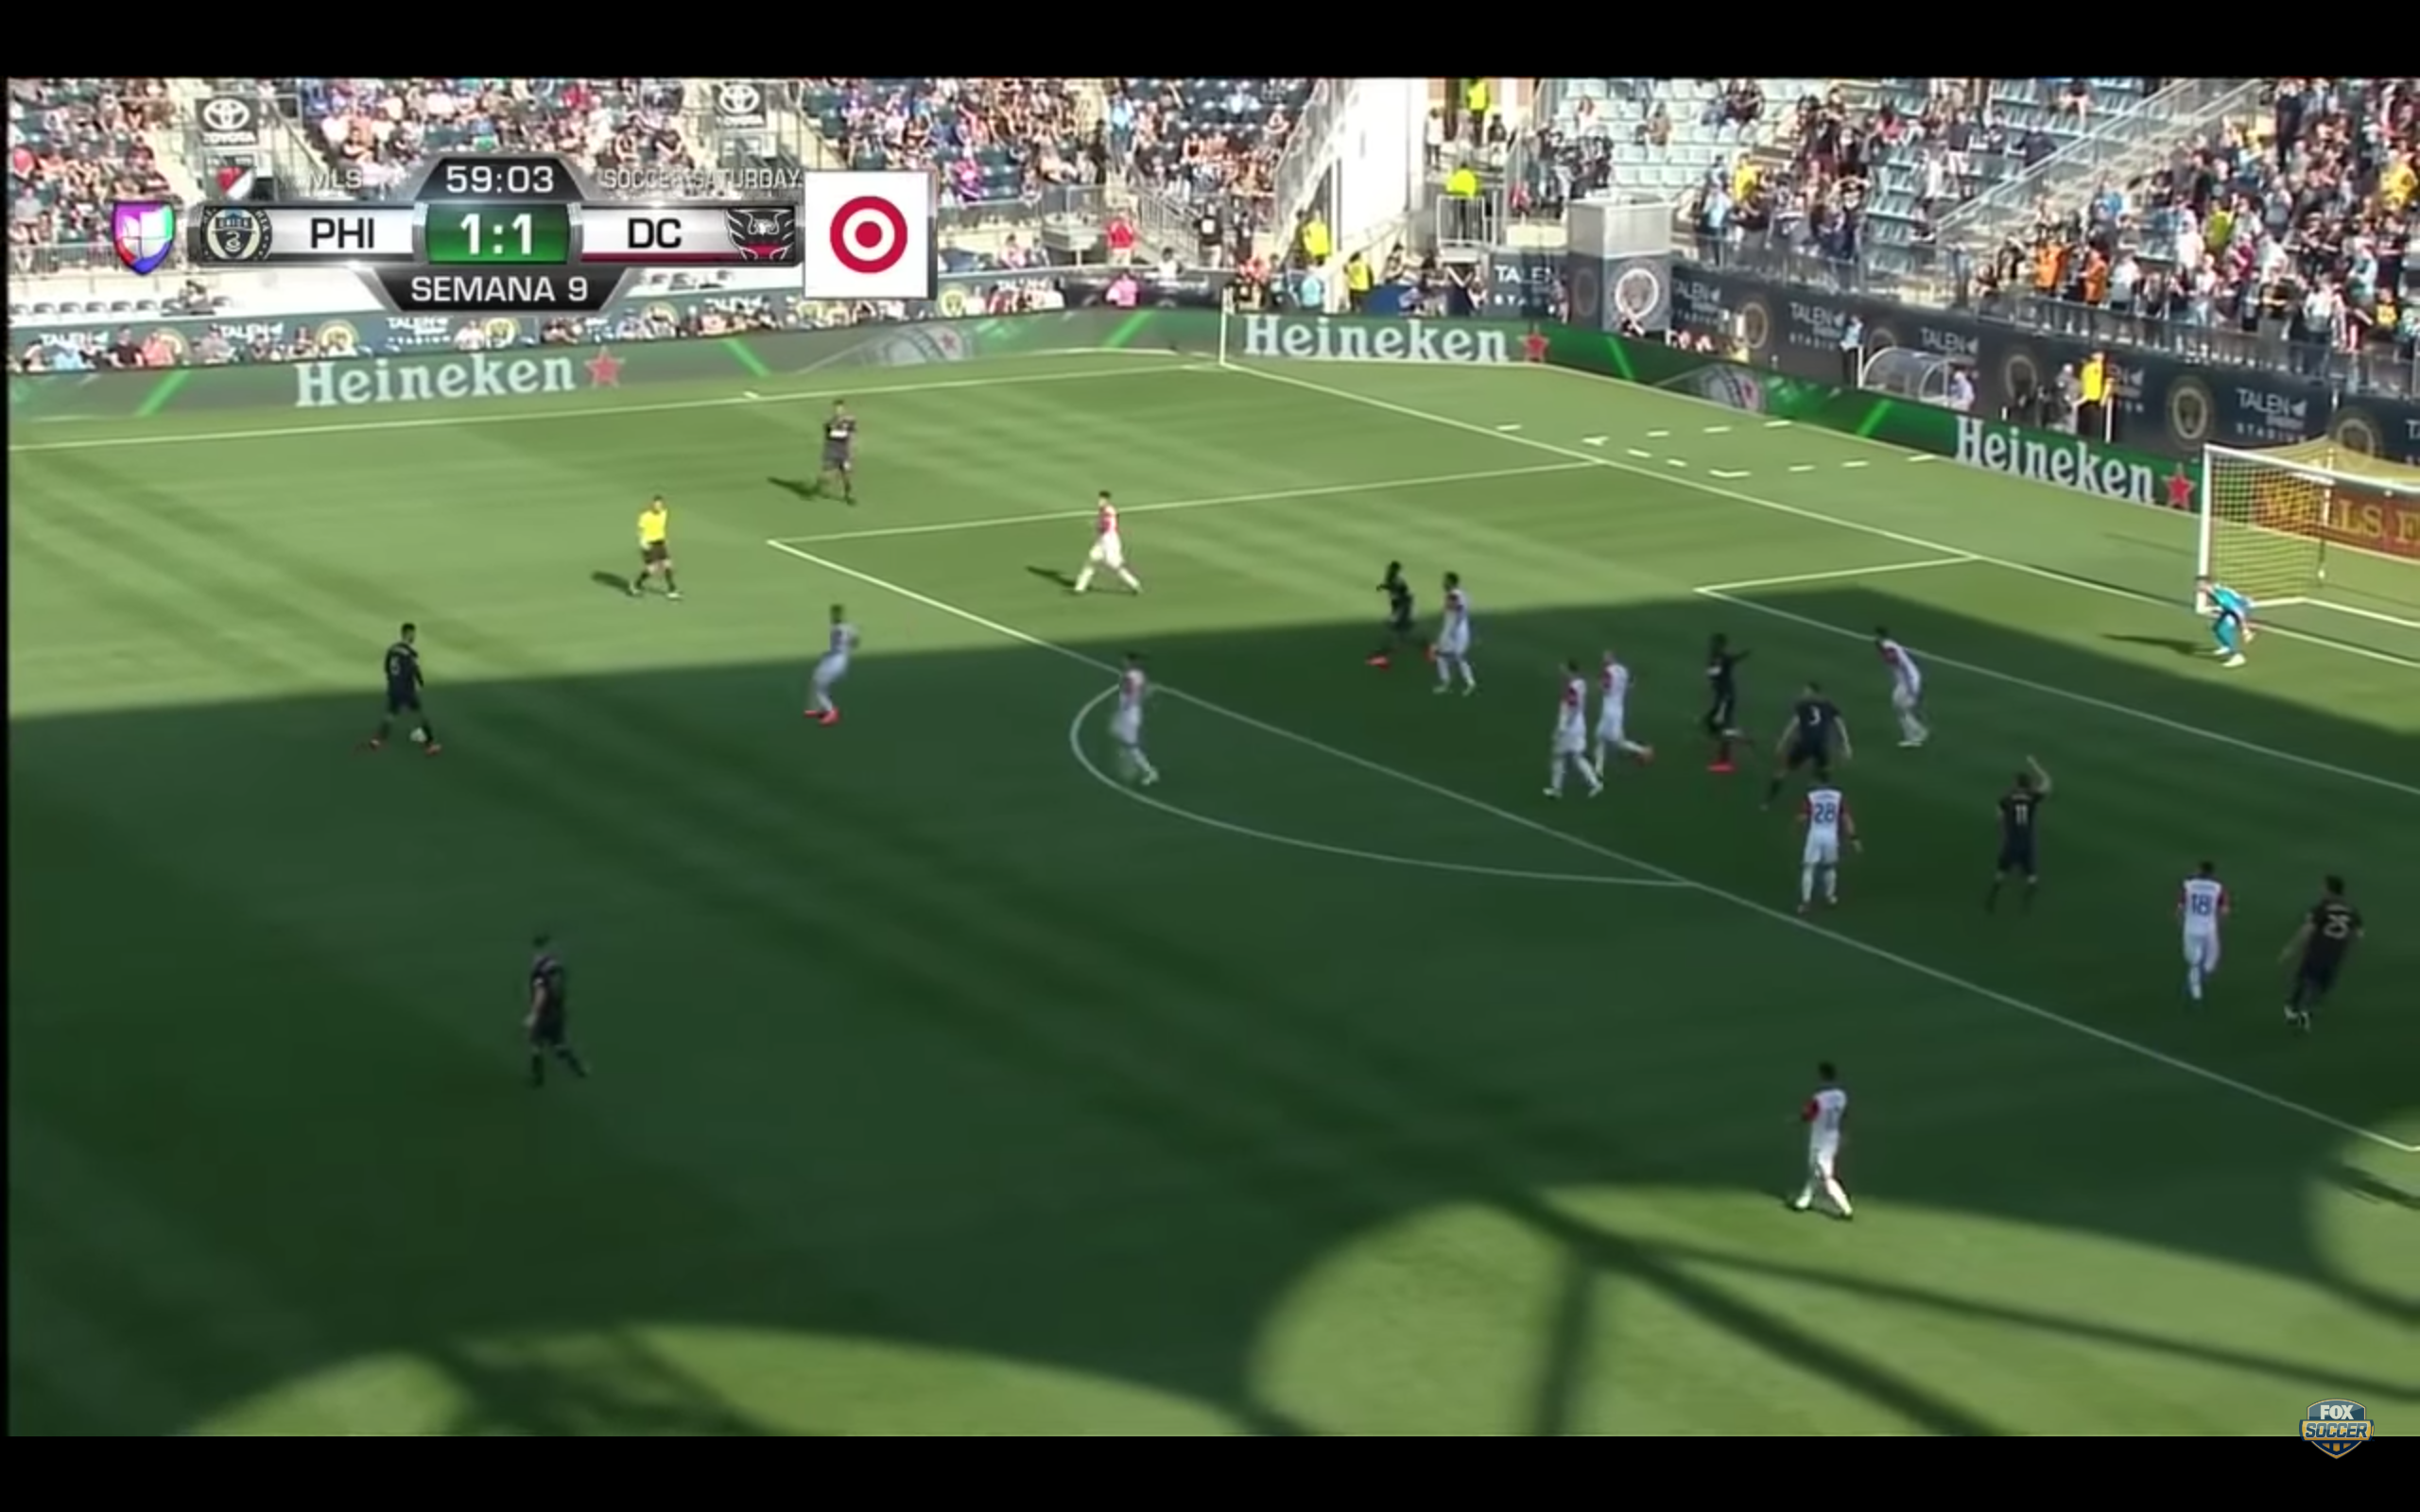referee: (611, 488, 701, 608)
soccer ball: (406, 729, 431, 750)
soccer player: (492, 933, 612, 1099), (2264, 878, 2376, 1041), (347, 611, 463, 765), (1971, 750, 2071, 919), (2152, 854, 2246, 1015), (1774, 769, 1869, 915), (1784, 1060, 1866, 1228), (1095, 651, 1184, 793), (1851, 625, 1944, 755), (1692, 628, 1769, 777), (1420, 565, 1501, 700), (1530, 661, 1602, 812), (795, 596, 875, 733), (1769, 679, 1853, 799), (2176, 566, 2261, 680), (1067, 488, 1152, 602), (1593, 647, 1662, 778), (1359, 559, 1438, 669), (805, 400, 875, 512)
